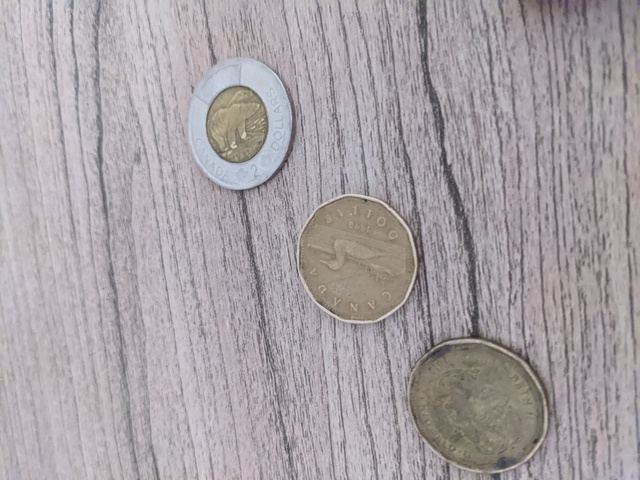loonie: (395, 334, 550, 474), (293, 187, 417, 329)
twonie: (182, 57, 300, 192)
